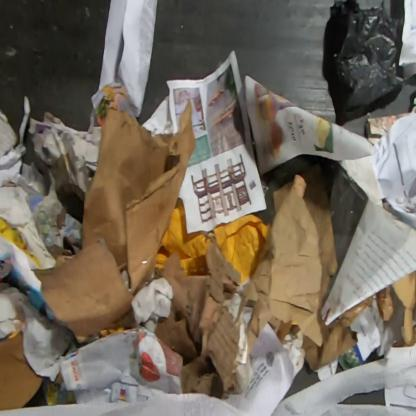cardboard: (31, 98, 197, 345), (153, 175, 323, 397), (300, 162, 340, 299), (302, 308, 358, 372), (0, 332, 44, 411), (391, 268, 415, 348), (272, 182, 293, 214)
soft_plastic: (332, 0, 405, 109)
